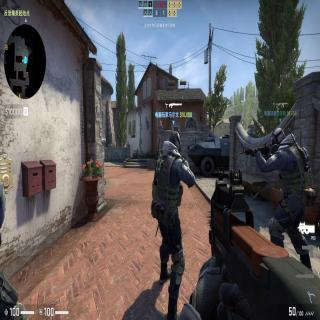CT-Body: (266, 125, 318, 219)
CT-Head: (270, 127, 284, 149), (169, 129, 182, 151)
